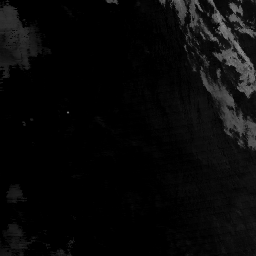Target: (66, 111, 70, 114)
